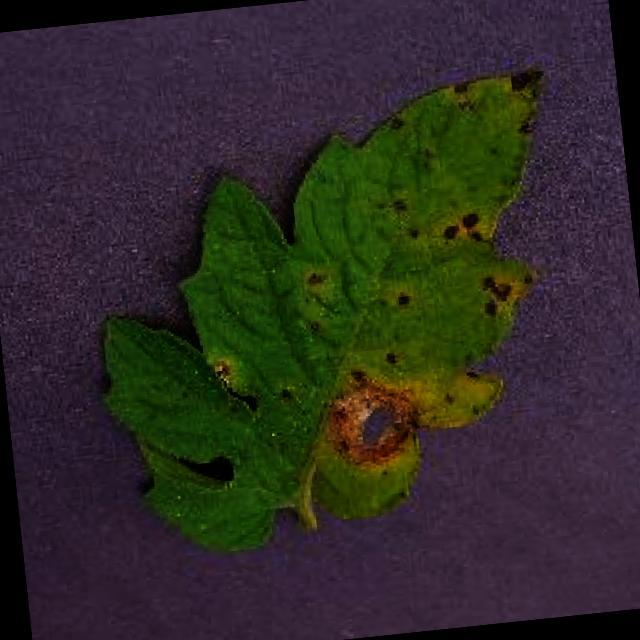Tomato Septoria spot leaf: (81, 64, 592, 564)
